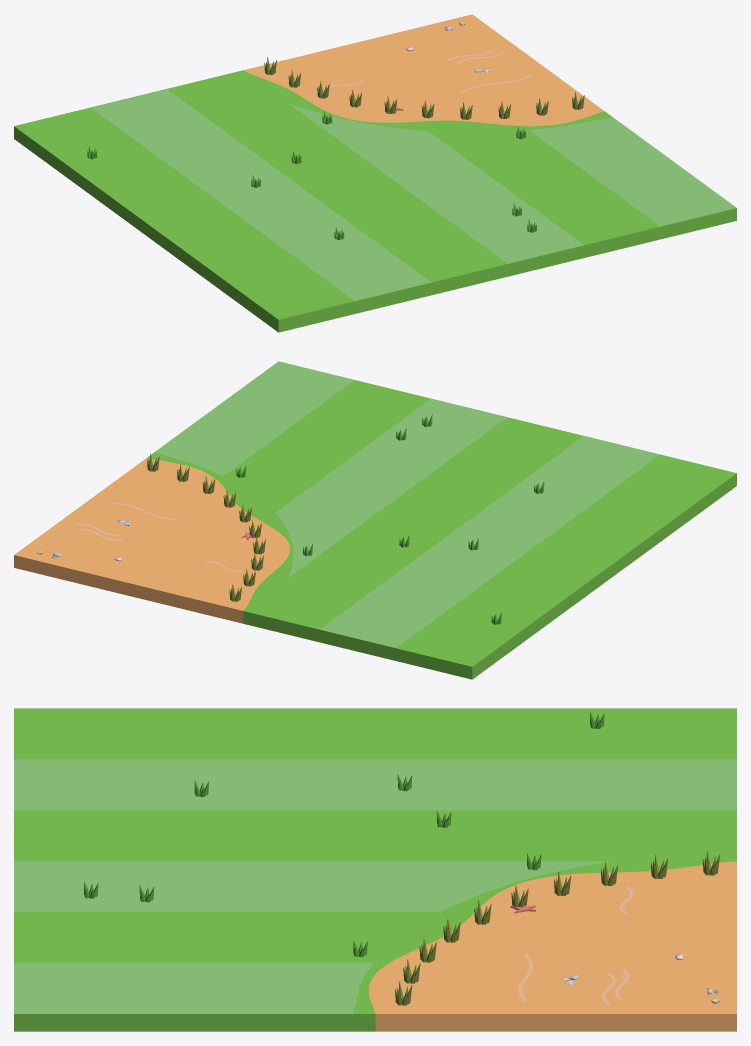
Rendered from grama_areia_canto_int.glb.
3 views of the same model, one above another, from view 1: azimuth 30°, elevation 25°; view 2: azimuth 150°, elevation 25°; view 3: azimuth 270°, elevation 25° (orthographic). The views are drawn at different scales.
Visible parts, largest first — view 1: grama_areia_canto_int; view 2: grama_areia_canto_int; view 3: grama_areia_canto_int.
Boxes of the visible parts, x1,y1,x2,y2 form: grama_areia_canto_int: (14,14,736,332); grama_areia_canto_int: (14,361,736,679); grama_areia_canto_int: (14,708,736,1031).
Size of the model in its own units: 15 by 0.818 by 15.
Materials: 1 (1 with a texture image).
